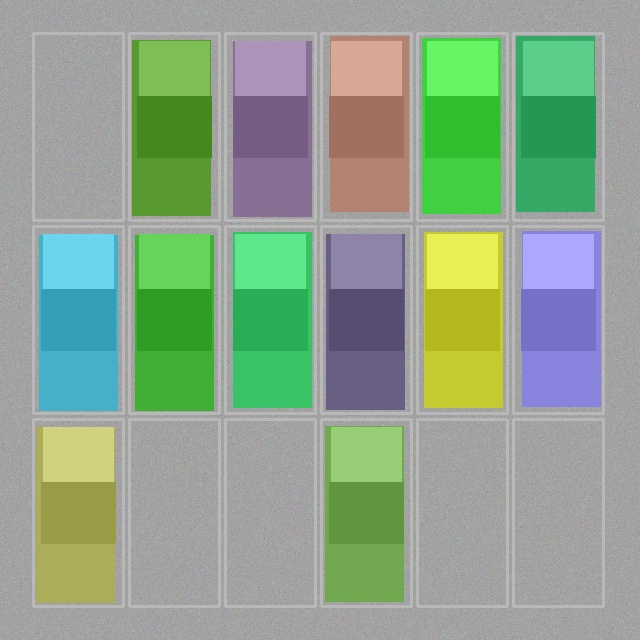space-empty: (35, 35, 121, 218), (131, 421, 217, 604), (227, 421, 313, 604), (419, 421, 505, 604), (515, 421, 601, 604)
space-occupied: (131, 35, 217, 218), (227, 35, 313, 218), (323, 35, 409, 218), (419, 35, 505, 218), (515, 35, 601, 218), (35, 228, 121, 411), (131, 228, 217, 411), (227, 228, 313, 411), (323, 228, 409, 411), (419, 228, 505, 411), (515, 228, 601, 411), (35, 421, 121, 604), (323, 421, 409, 604)
